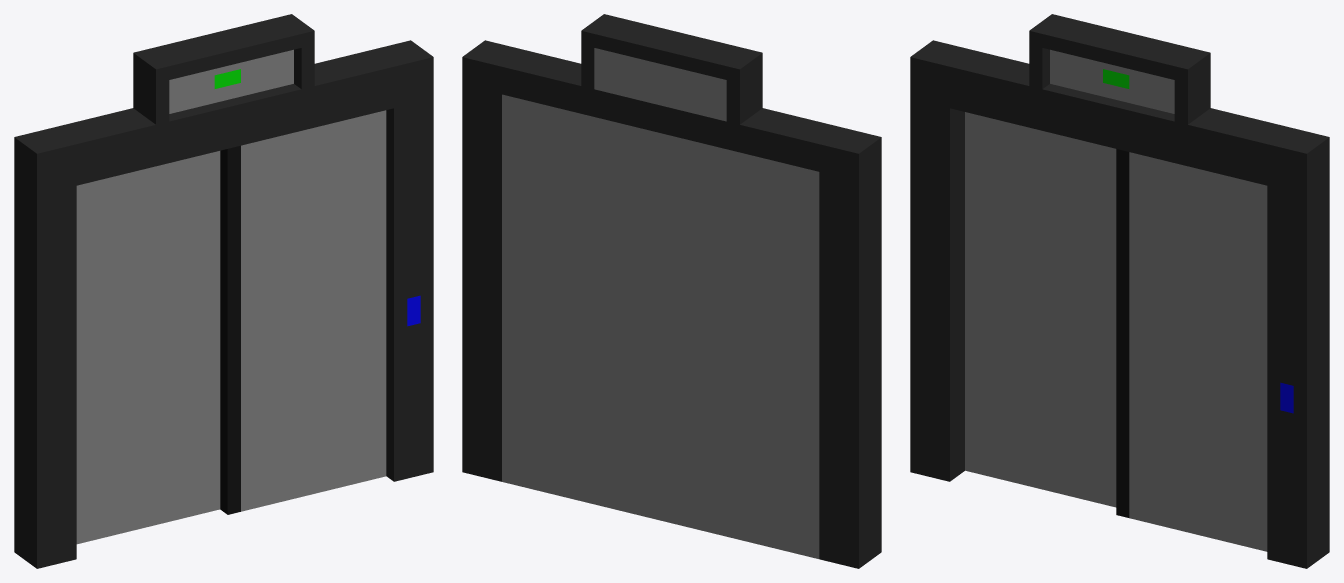
Rendered from Porta Elevador.obj.
3 renders of one model, left to right at view 1: azimuth 30°, elevation 25°; view 2: azimuth 150°, elevation 25°; view 3: azimuth 330°, elevation 25°, orthographic.
Bounding box in the file's own units: 3 × 3.4 × 0.3.
1 material, 1 textured.
